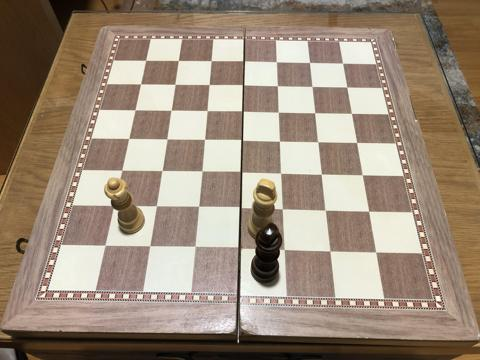xcorner: (205, 56, 217, 69), (341, 81, 353, 94), (129, 105, 142, 117), (312, 136, 325, 148), (144, 241, 157, 253), (336, 58, 348, 70), (303, 57, 315, 69), (270, 57, 282, 69), (238, 57, 250, 69), (173, 56, 185, 68), (140, 56, 152, 68), (306, 81, 318, 93), (272, 81, 284, 93), (237, 80, 249, 92), (203, 80, 215, 92), (169, 80, 181, 92), (135, 79, 147, 91), (346, 108, 358, 120), (309, 107, 321, 119), (273, 107, 285, 119), (237, 106, 249, 118), (201, 106, 213, 118), (165, 105, 177, 117), (351, 137, 363, 149), (274, 136, 286, 148), (236, 135, 248, 147), (198, 134, 210, 146), (161, 134, 173, 146), (123, 133, 135, 145), (357, 169, 369, 181), (316, 168, 328, 180), (276, 168, 288, 180), (236, 167, 248, 179), (196, 166, 208, 178), (156, 166, 168, 178), (116, 165, 128, 177), (363, 205, 375, 217), (320, 204, 332, 216), (278, 204, 290, 216), (235, 203, 247, 215), (193, 202, 205, 214), (151, 201, 163, 213), (109, 200, 121, 212), (371, 246, 383, 258), (325, 245, 337, 257), (280, 244, 292, 256), (234, 243, 246, 255), (189, 242, 201, 254), (100, 240, 112, 252)
